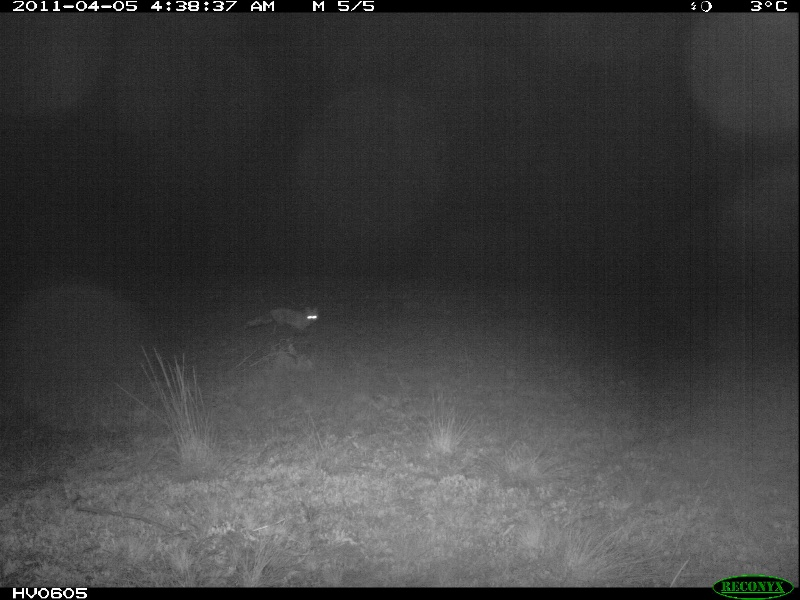fox: (246, 301, 329, 339)
